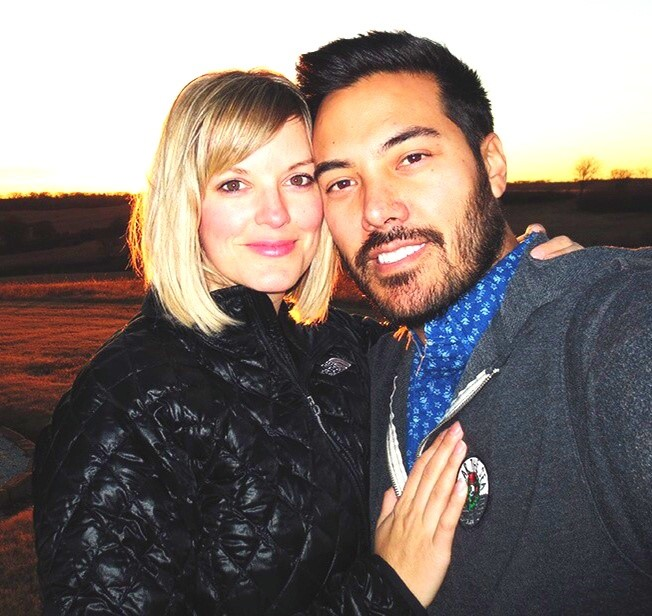face_no_mask: (310, 32, 505, 319), (144, 69, 326, 293)
